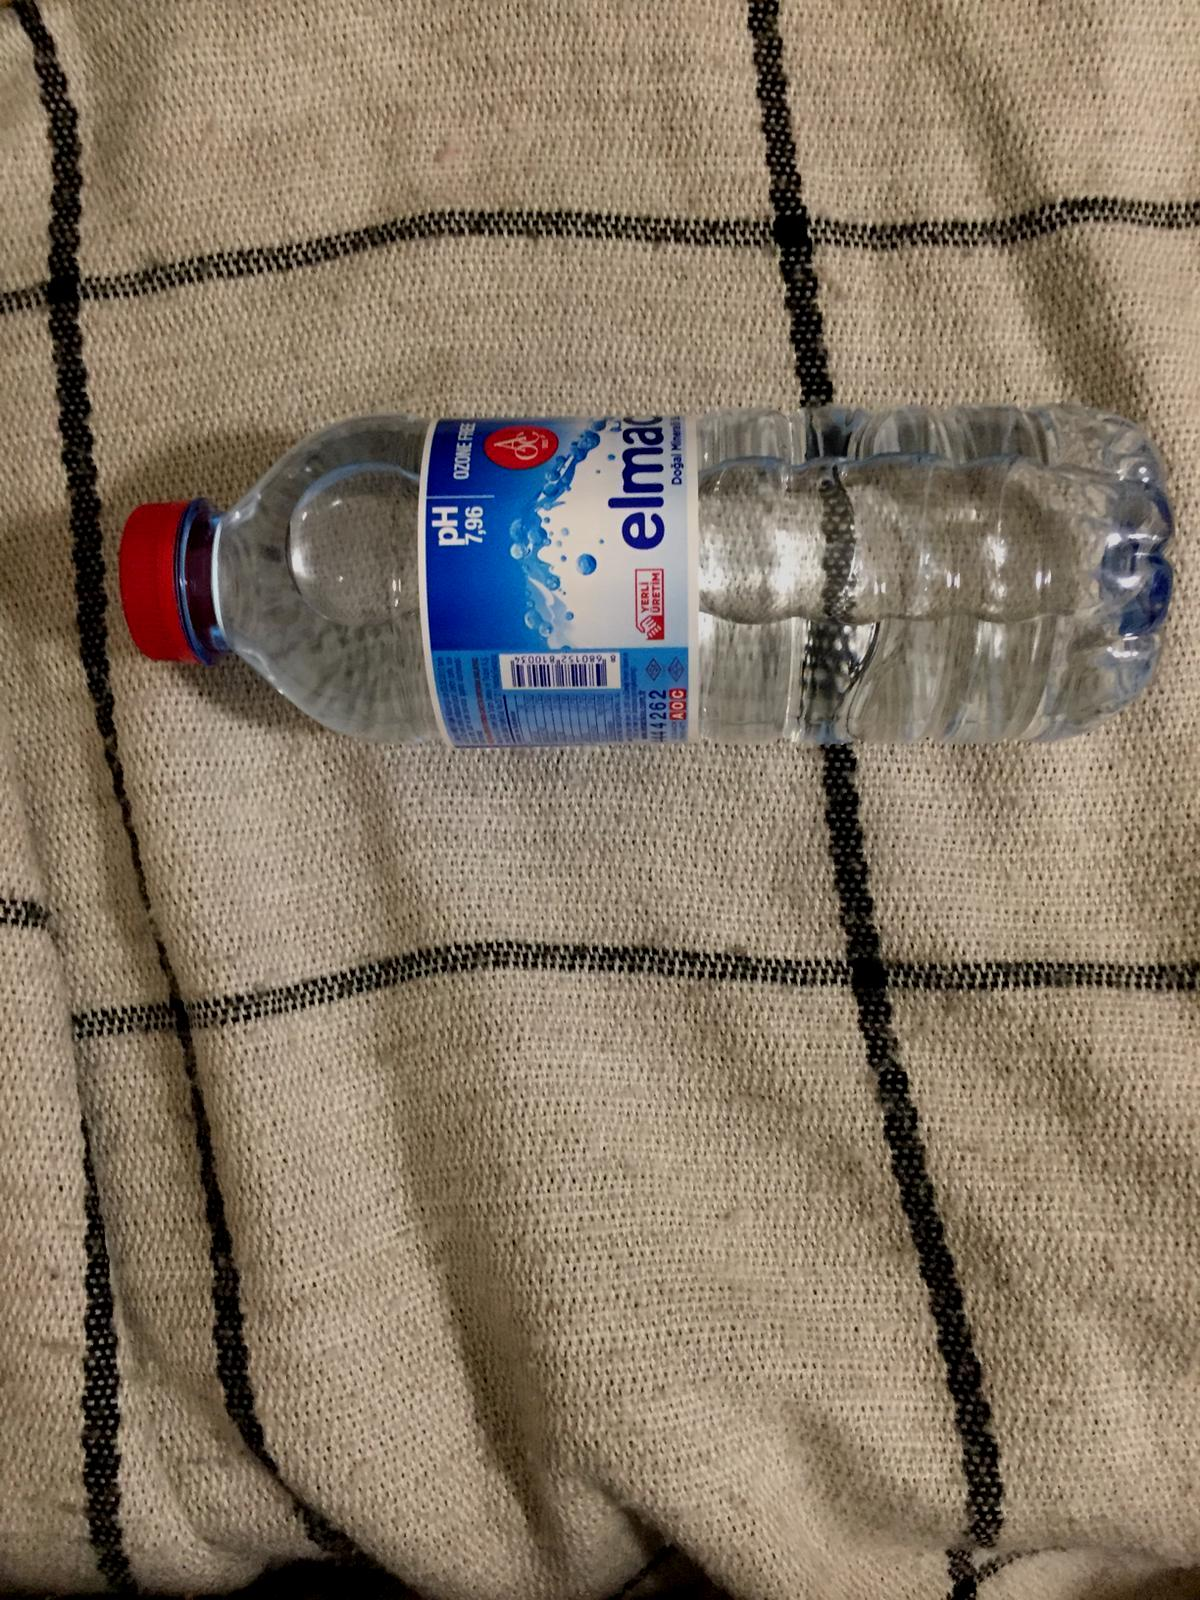bottle: (127, 411, 1172, 756)
